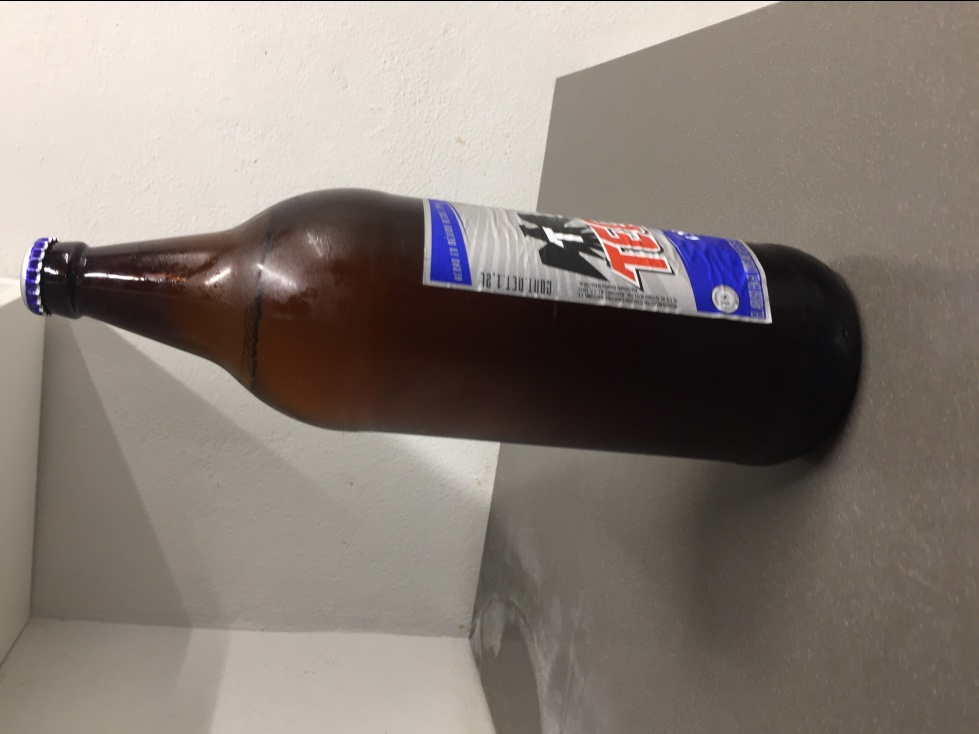tecateC: (27, 188, 868, 465)
